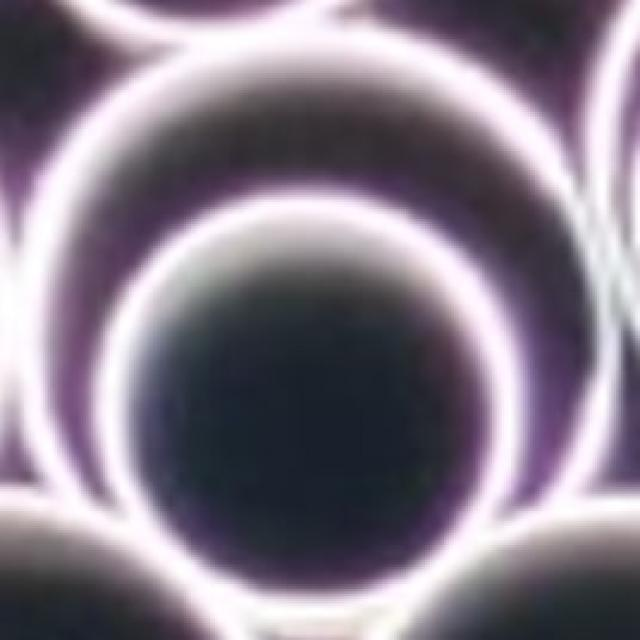pipe: (9, 15, 633, 574), (90, 189, 520, 593)
